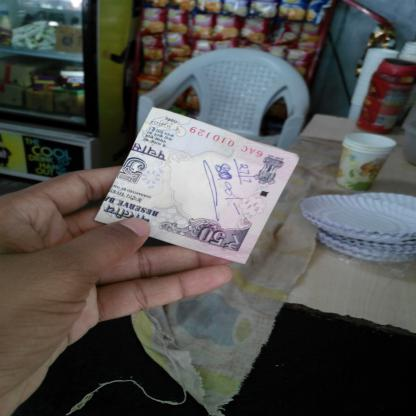Old50Front: (94, 107, 300, 265)
